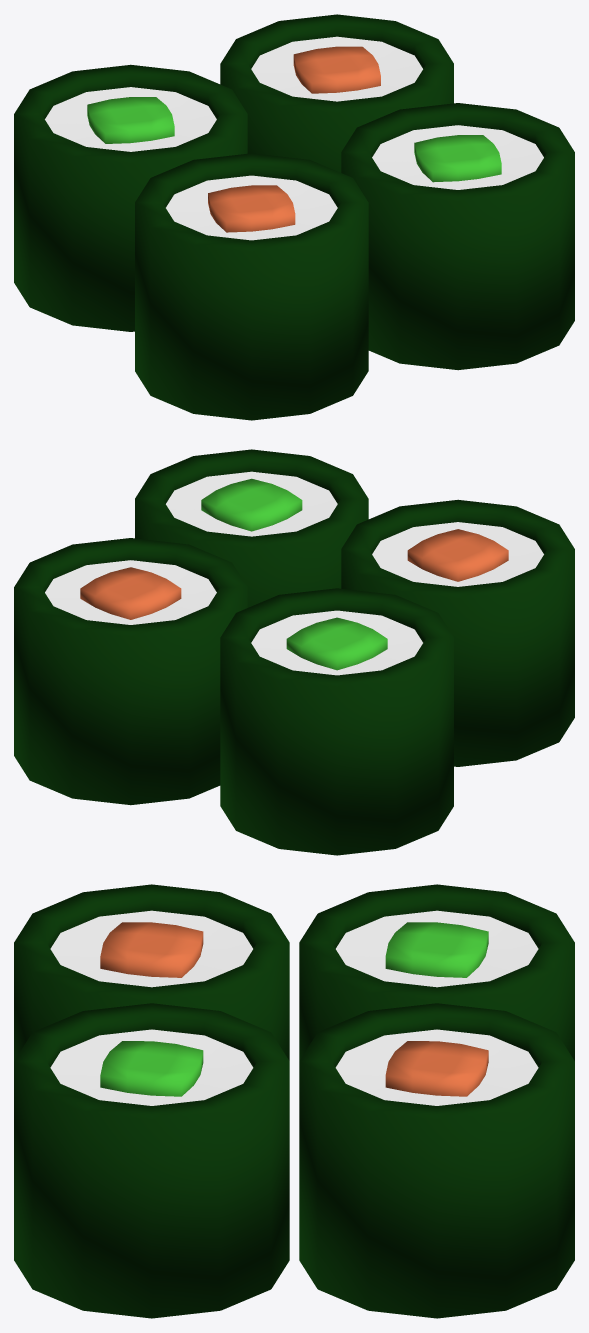
The model's file is rl_sushi_2 (2).fbx.
3 views of the same model, one above another, from view 1: azimuth 30°, elevation 25°; view 2: azimuth 150°, elevation 25°; view 3: azimuth 270°, elevation 25° (orthographic). The views are drawn at different scales.
Parts seen in each view (by area): view 1: seaweed_1, seaweed_4, seaweed_2, seaweed_3, rice_1, rice_3, rice_2, rice_4, filling_3, filling_1, filling_2, filling_4; view 2: seaweed_2, seaweed_3, seaweed_1, seaweed_4, rice_2, rice_4, rice_1, rice_3, filling_1, filling_2, filling_3, filling_4; view 3: seaweed_3, seaweed_4, seaweed_1, seaweed_2, rice_1, rice_2, rice_3, rice_4, filling_2, filling_1, filling_3, filling_4.
Part boxes in pixels (bbox=[...]): seaweed_1: bbox=[135, 153, 368, 420]; seaweed_4: bbox=[341, 103, 574, 370]; seaweed_2: bbox=[14, 64, 247, 331]; seaweed_3: bbox=[220, 14, 453, 172]; rice_1: bbox=[166, 175, 337, 240]; rice_3: bbox=[251, 36, 422, 101]; rice_2: bbox=[45, 87, 216, 151]; rice_4: bbox=[372, 125, 543, 189]; filling_3: bbox=[293, 46, 380, 93]; filling_1: bbox=[208, 185, 295, 232]; filling_2: bbox=[87, 97, 174, 143]; filling_4: bbox=[414, 135, 501, 182]; seaweed_2: bbox=[220, 588, 453, 855]; seaweed_3: bbox=[14, 538, 247, 805]; seaweed_1: bbox=[341, 499, 574, 766]; seaweed_4: bbox=[135, 449, 368, 607]; rice_2: bbox=[251, 610, 422, 675]; rice_4: bbox=[166, 471, 337, 536]; rice_1: bbox=[372, 522, 543, 586]; rice_3: bbox=[45, 560, 216, 624]; filling_1: bbox=[407, 529, 508, 581]; filling_2: bbox=[286, 617, 387, 670]; filling_3: bbox=[80, 567, 181, 619]; filling_4: bbox=[201, 478, 302, 531]; seaweed_3: bbox=[299, 1003, 574, 1318]; seaweed_4: bbox=[14, 1003, 289, 1318]; seaweed_1: bbox=[14, 884, 289, 1060]; seaweed_2: bbox=[299, 884, 574, 1060]; rice_1: bbox=[50, 910, 252, 987]; rice_2: bbox=[336, 910, 538, 987]; rice_3: bbox=[335, 1029, 538, 1105]; rice_4: bbox=[50, 1029, 253, 1105]; filling_2: bbox=[385, 922, 488, 977]; filling_1: bbox=[100, 922, 203, 977]; filling_3: bbox=[385, 1041, 488, 1096]; filling_4: bbox=[100, 1041, 203, 1096].
Bounding box in the file's own units: 404 × 159 × 407.
